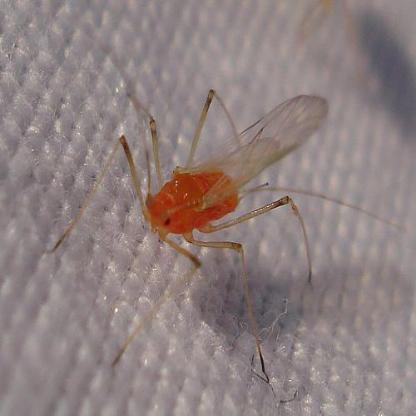aphid: (51, 65, 370, 362)
